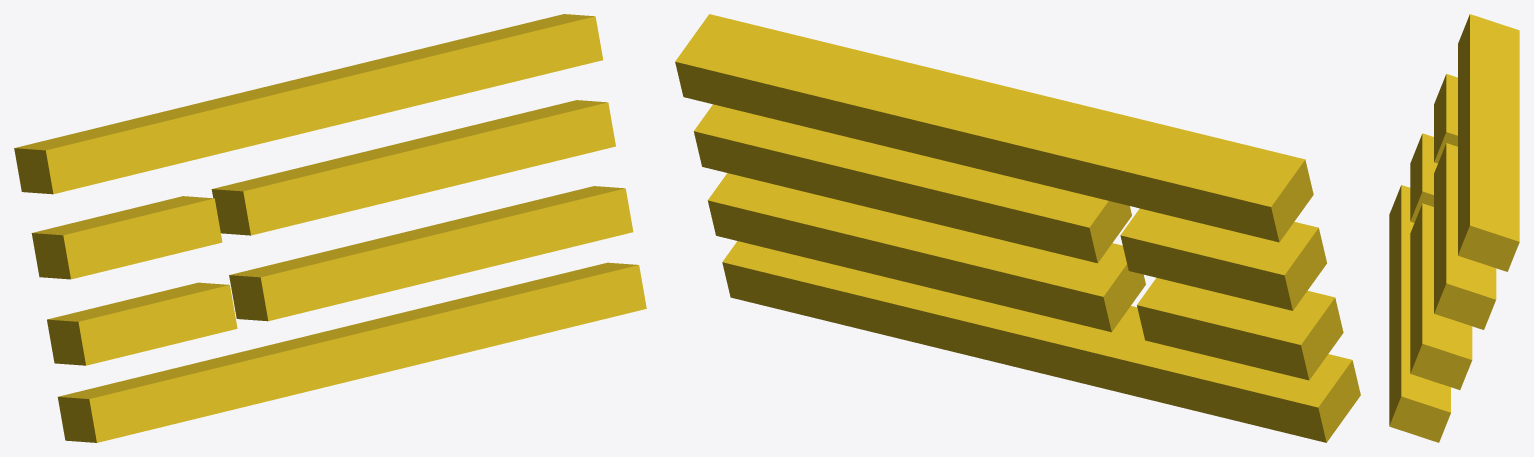
3 renders of one model, left to right at view 1: azimuth 30°, elevation 25°; view 2: azimuth 150°, elevation 25°; view 3: azimuth 270°, elevation 25°, orthographic. The views are drawn at different scales.
Visible parts, largest first — view 1: Curve.006; view 2: Curve.006; view 3: Curve.006.
Part boxes in pixels (x1,y1,x2,y2): Curve.006: (14,14,646,442); Curve.006: (675,14,1360,442); Curve.006: (1389,14,1519,442).
Size of the model in its own units: 0.0944 by 0.0452 by 0.0246.
